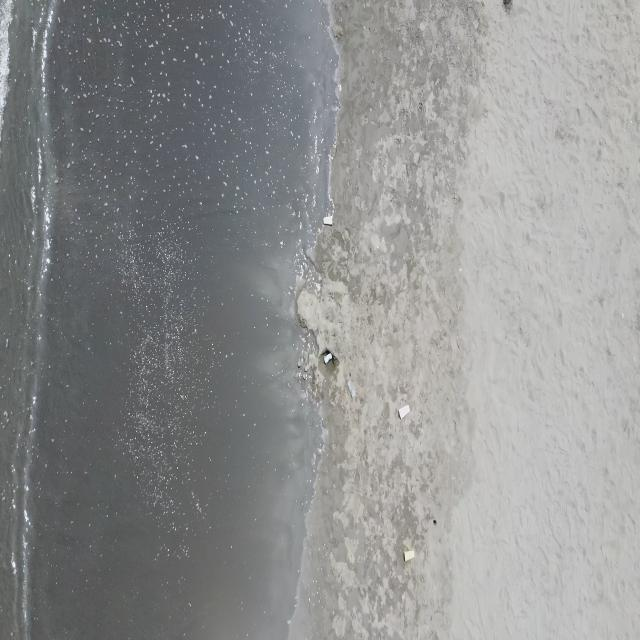takeaway-cup: (398, 403, 411, 420), (348, 380, 357, 398), (403, 550, 415, 562), (323, 214, 334, 227), (323, 352, 332, 365)
